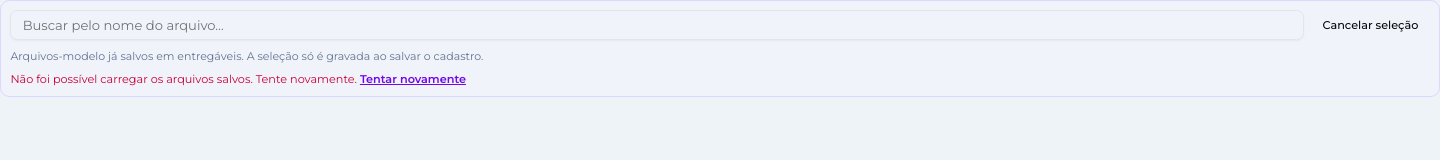
Scenario: Escolher arquivo-modelo já salvo › falha mostra erro e permite tentar novamente
Expected: the message shows "Não foi possível carregar", [10,72,357,86]
Click the button "Tentar novamente" at point(413, 79), box [360,72,466,87]
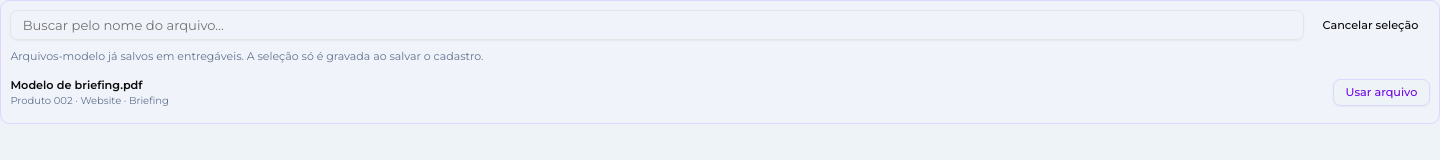
Result: the text "Modelo de briefing.pdf" is shown at [10,78,142,92]
